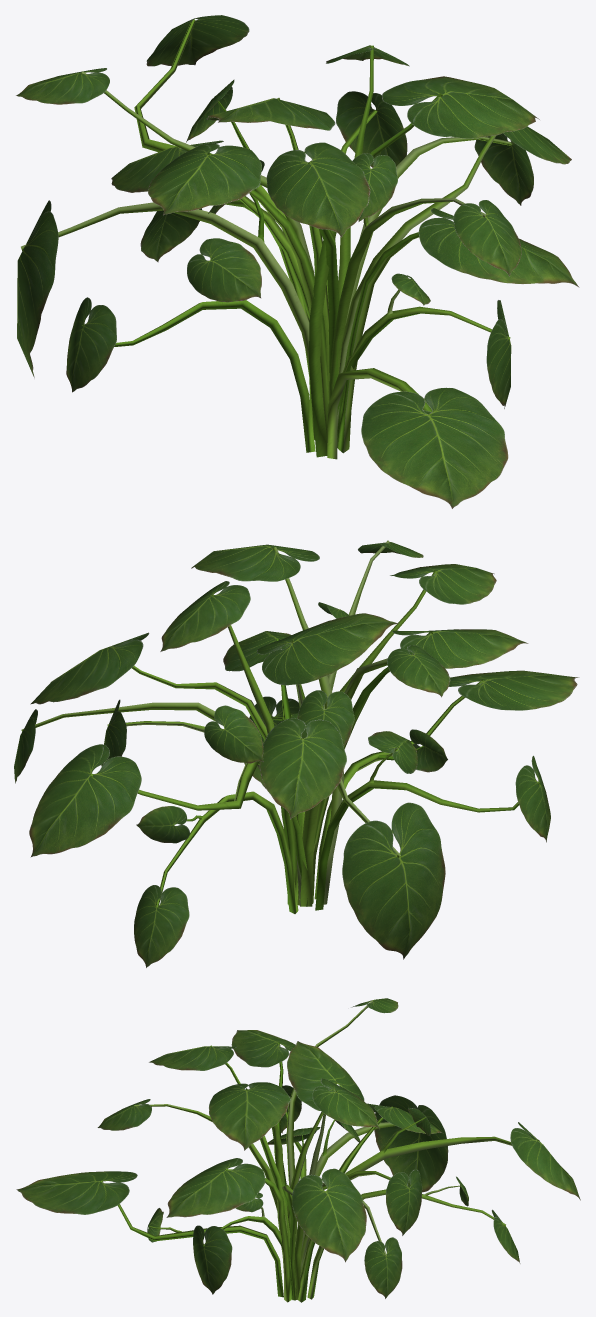
Rendered from Plant04.fbx.
3 views of the same model, one above another, from view 1: azimuth 30°, elevation 25°; view 2: azimuth 150°, elevation 25°; view 3: azimuth 270°, elevation 25° (orthographic). The views are drawn at different scales.
Parts seen in each view (by area): view 1: Plant04; view 2: Plant04; view 3: Plant04.
Part boxes in pixels (bbox=[...]): Plant04: bbox=[16, 15, 579, 508]; Plant04: bbox=[14, 540, 579, 967]; Plant04: bbox=[16, 998, 580, 1302].
Size of the model in its own units: 0.4595 by 0.3042 by 0.6512.
